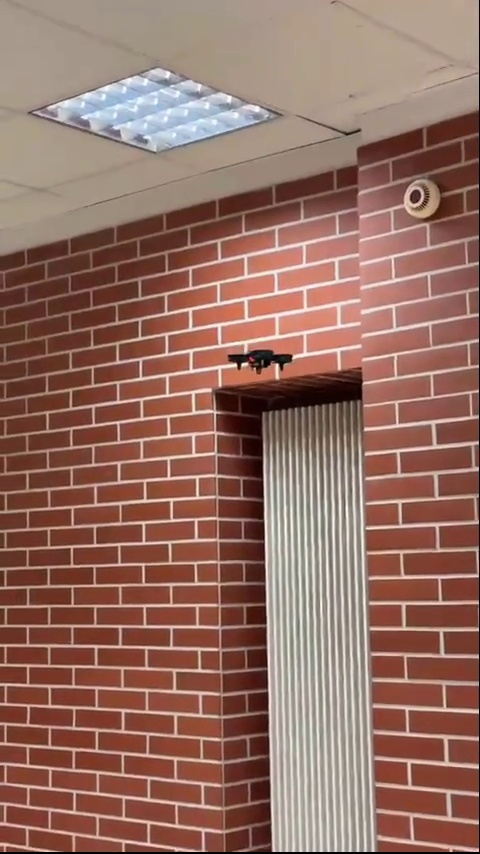drone: (227, 348, 297, 376)
